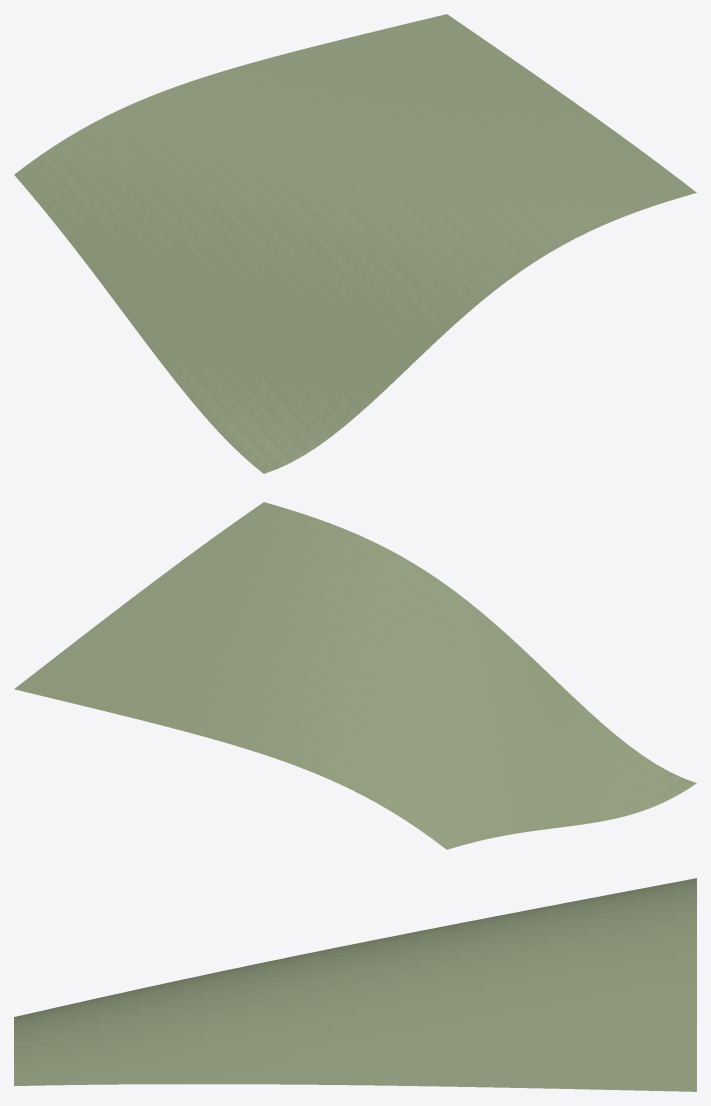
The model's file is expanse-15-30.glb.
The picture shows the model from 3 angles, top to bottom: view 1: azimuth 30°, elevation 25°; view 2: azimuth 150°, elevation 25°; view 3: azimuth 270°, elevation 25°; orthographic projection. The views are drawn at different scales.
Visible parts, largest first — view 1: expanse-15-30; view 2: expanse-15-30; view 3: expanse-15-30.
Part boxes in pixels (box(x1,y1,x2,y2)): expanse-15-30: box(14, 14, 696, 473); expanse-15-30: box(14, 502, 696, 849); expanse-15-30: box(14, 878, 696, 1091).
Size of the model in its own units: 256 by 99.97 by 256.
